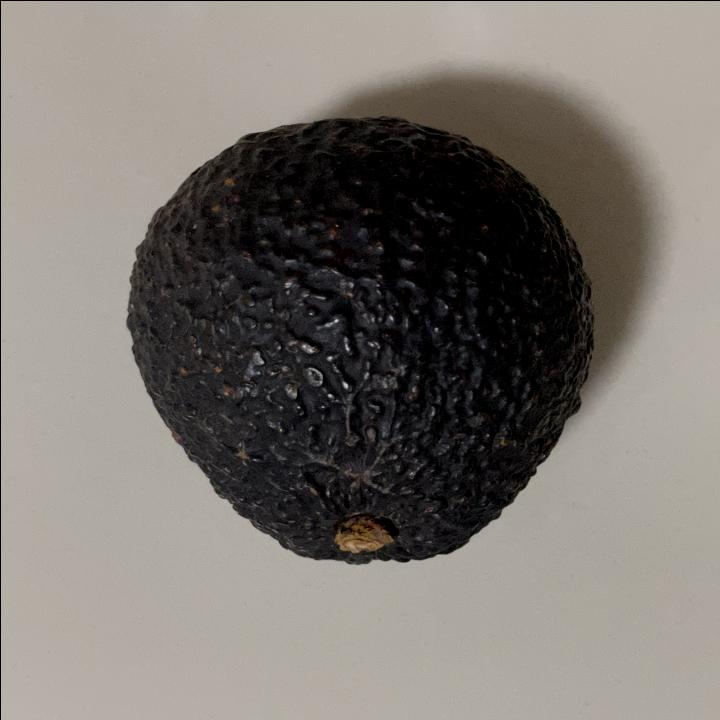Level2: (117, 110, 601, 574)
